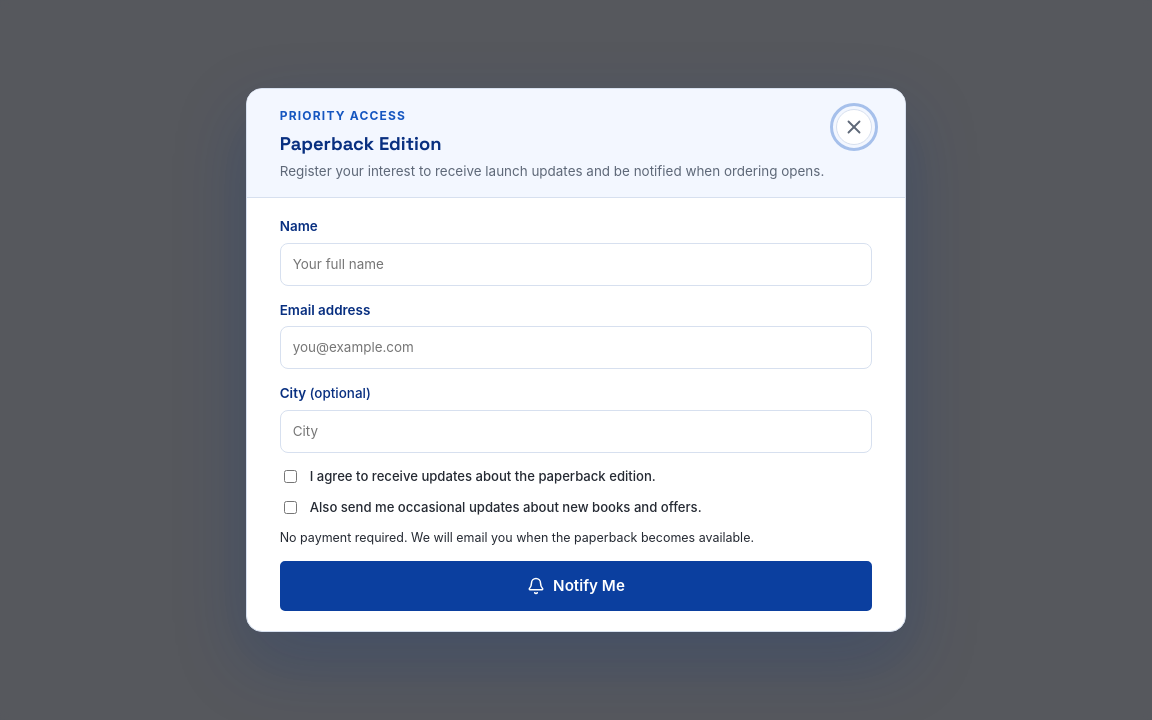
Scenario: PaperbackWaitlistDialog › preserves form values when the API fails
In the field labelled "Name": (576, 264) [280, 243, 872, 286], type "Pradeep Kumar"
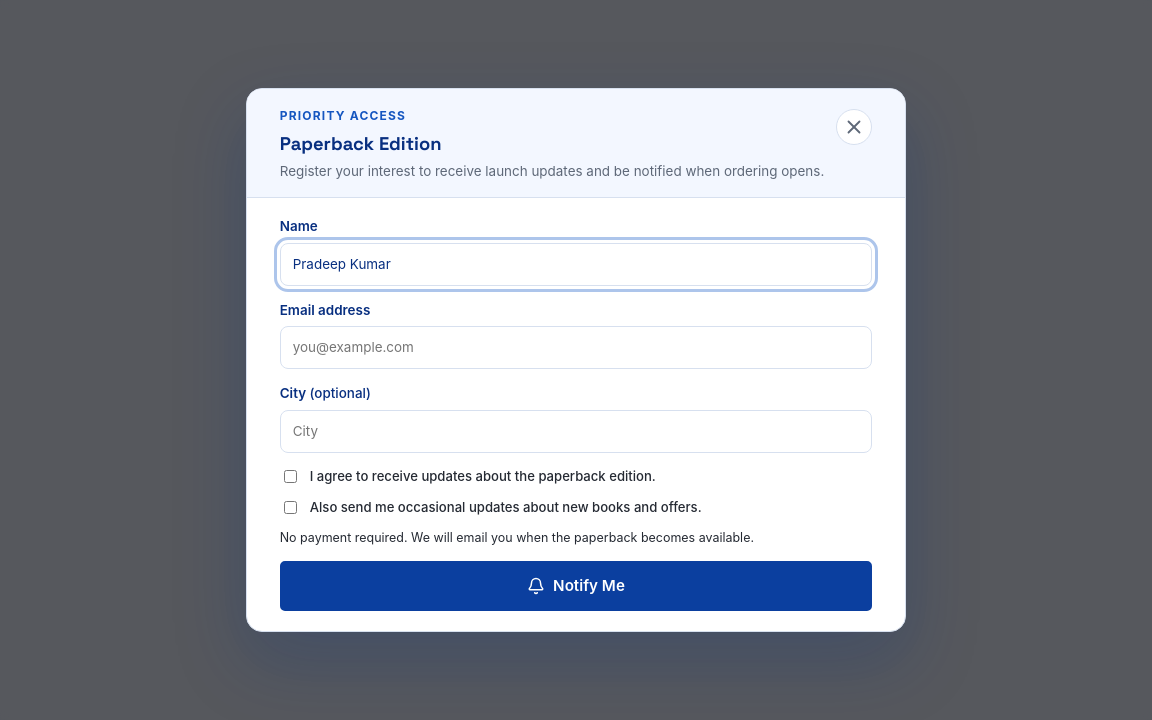
In the field labelled "Email address": (576, 348) [280, 326, 872, 369], type "reader@example.com"
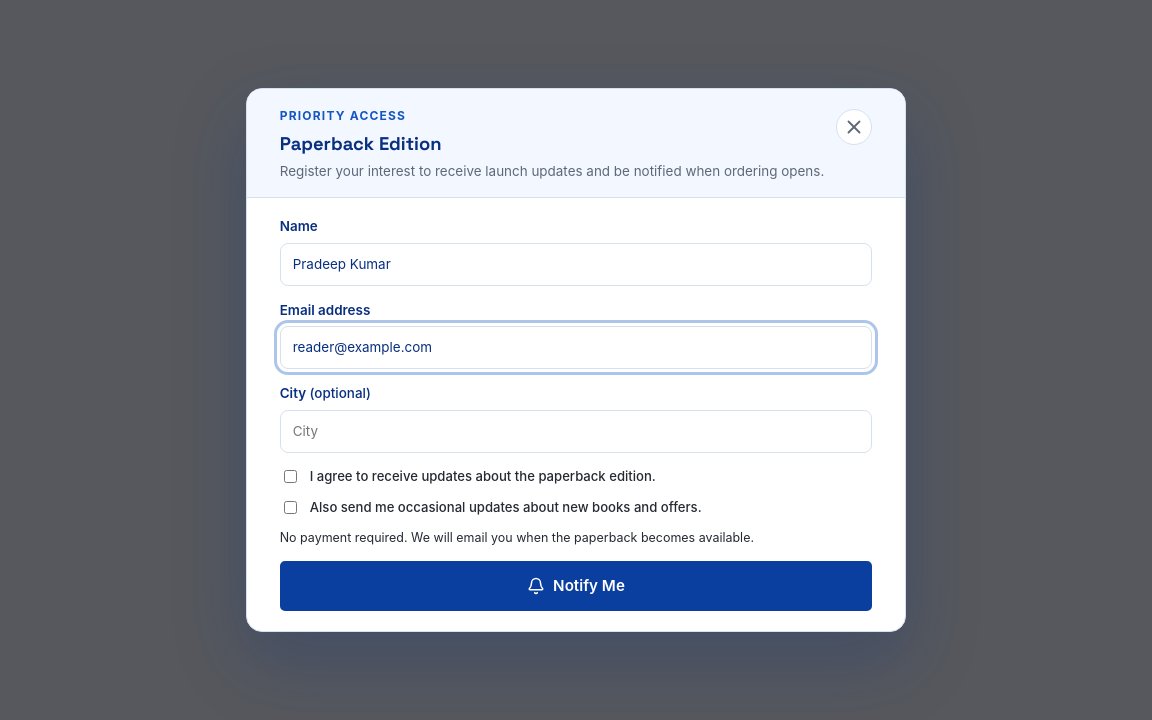
In the field labelled "City (optional)": (576, 431) [280, 410, 872, 453], type "Mysuru"
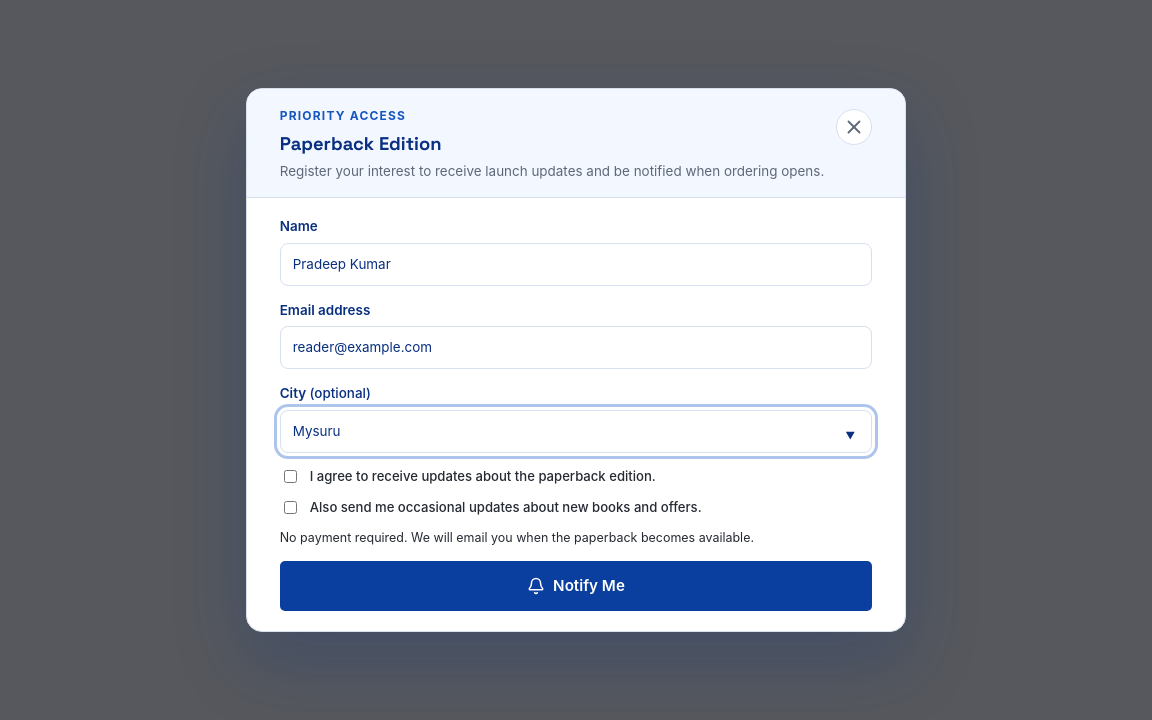
Click the checkbox labelled "I agree to receive updates about the paperback edition.": (290, 476) [284, 470, 297, 483]
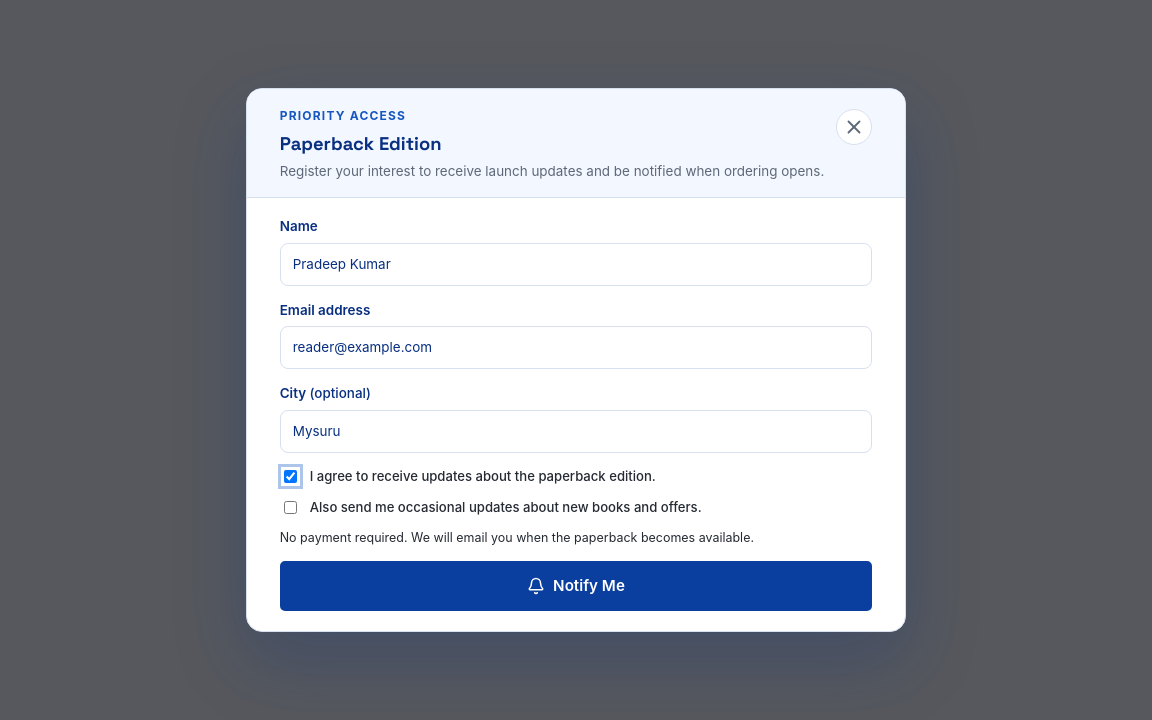
Click the button "Notify Me": (576, 586) [280, 561, 872, 611]
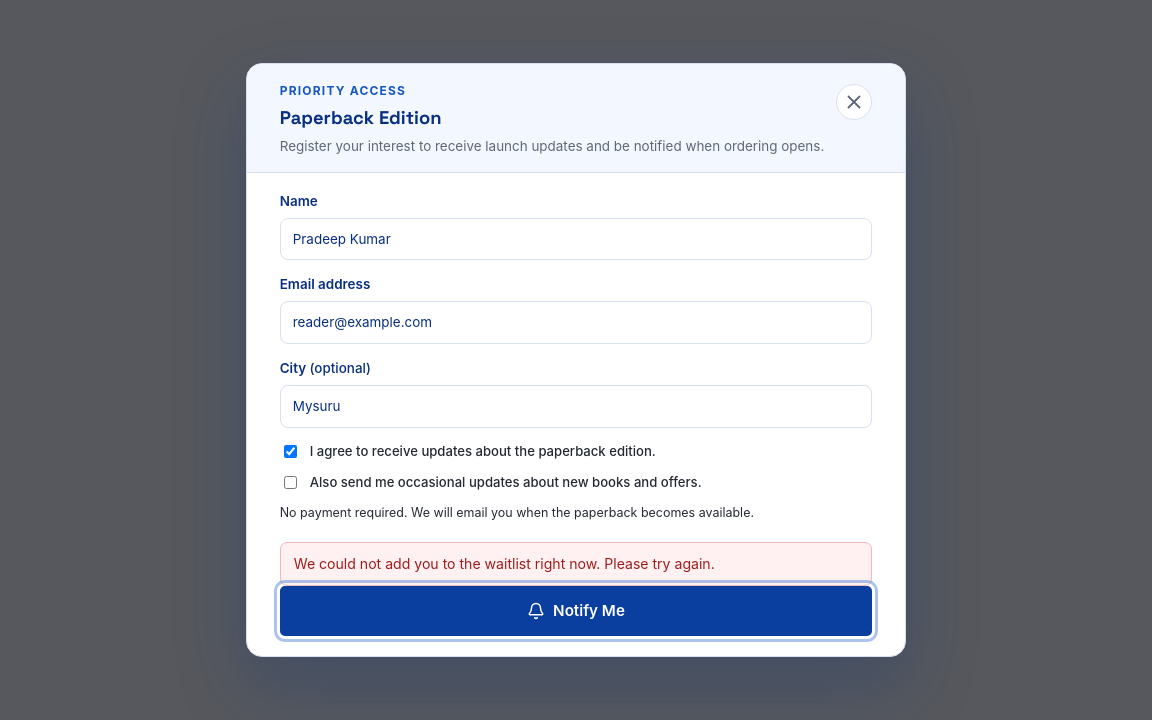
Expected: the text "We could not add you to the waitlist right now. Please try again." is shown, [280, 542, 872, 586]
